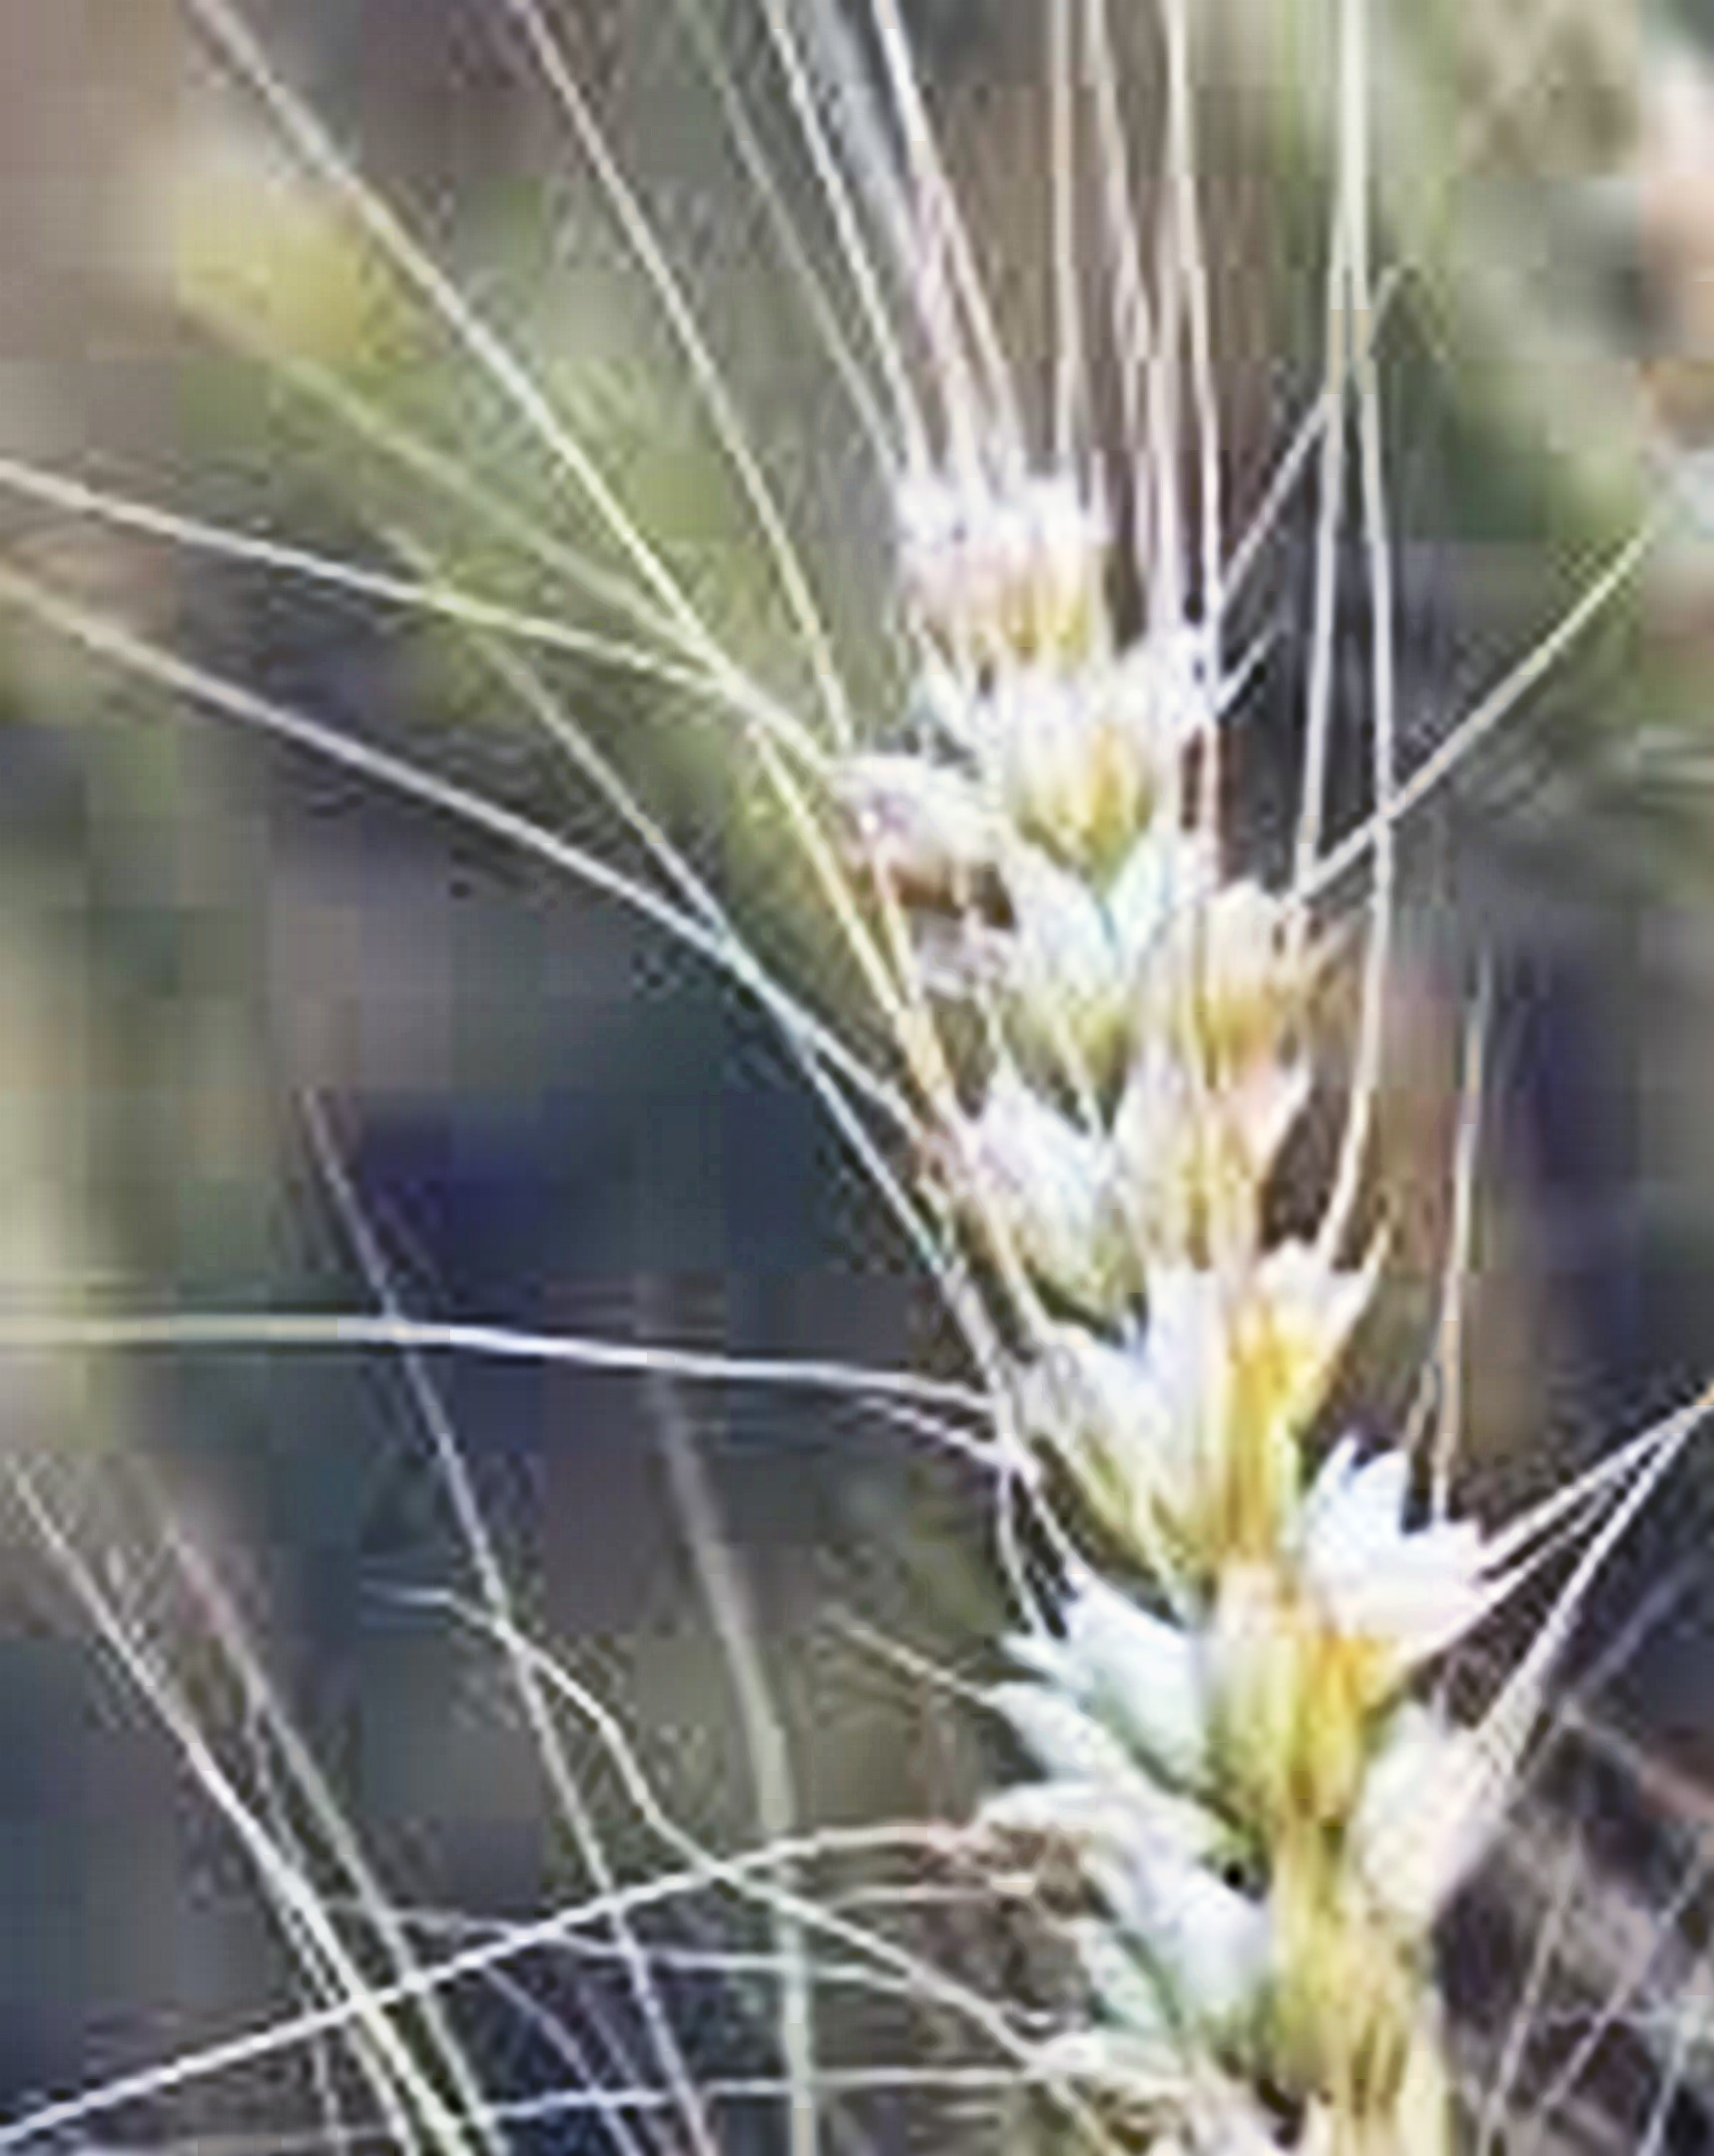Healthy Wheat: (763, 460, 1497, 2095)
